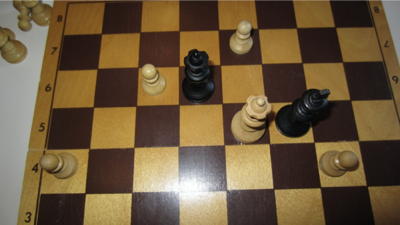black-king: (275, 87, 332, 138)
black-queen: (182, 49, 216, 104)
white-pawn: (319, 150, 359, 178), (39, 153, 79, 180), (141, 64, 168, 97), (230, 20, 254, 55)
white-queen: (230, 94, 273, 144)
